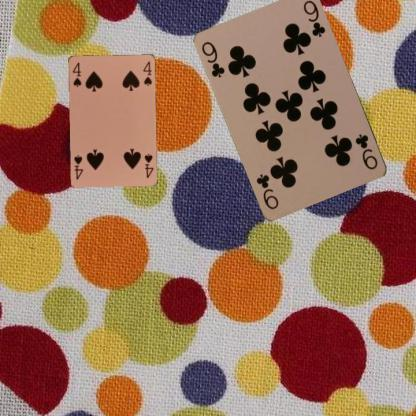4s: (142, 150, 154, 180), (70, 60, 82, 88)
9c: (198, 38, 226, 80), (353, 131, 380, 171)
